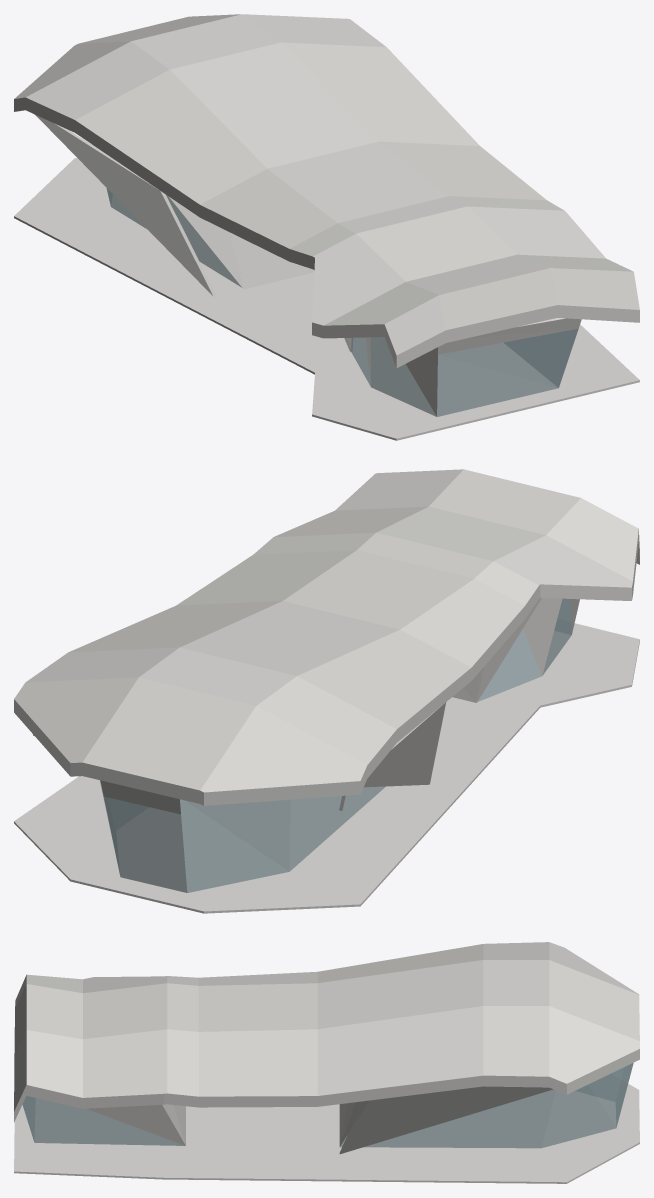
The model's file is venue_grand_theatre.glb.
The picture shows the model from 3 angles, top to bottom: view 1: azimuth 30°, elevation 25°; view 2: azimuth 150°, elevation 25°; view 3: azimuth 270°, elevation 25°; orthographic projection. The views are drawn at different scales.
Visible parts, largest first — view 1: venue_grand_theatre; view 2: venue_grand_theatre; view 3: venue_grand_theatre.
Part boxes in pixels (x1,y1,x2,y2): venue_grand_theatre: (14,14,639,440); venue_grand_theatre: (14,469,639,913); venue_grand_theatre: (14,942,639,1183).
Size of the model in its own units: 102 by 46.61 by 198.
